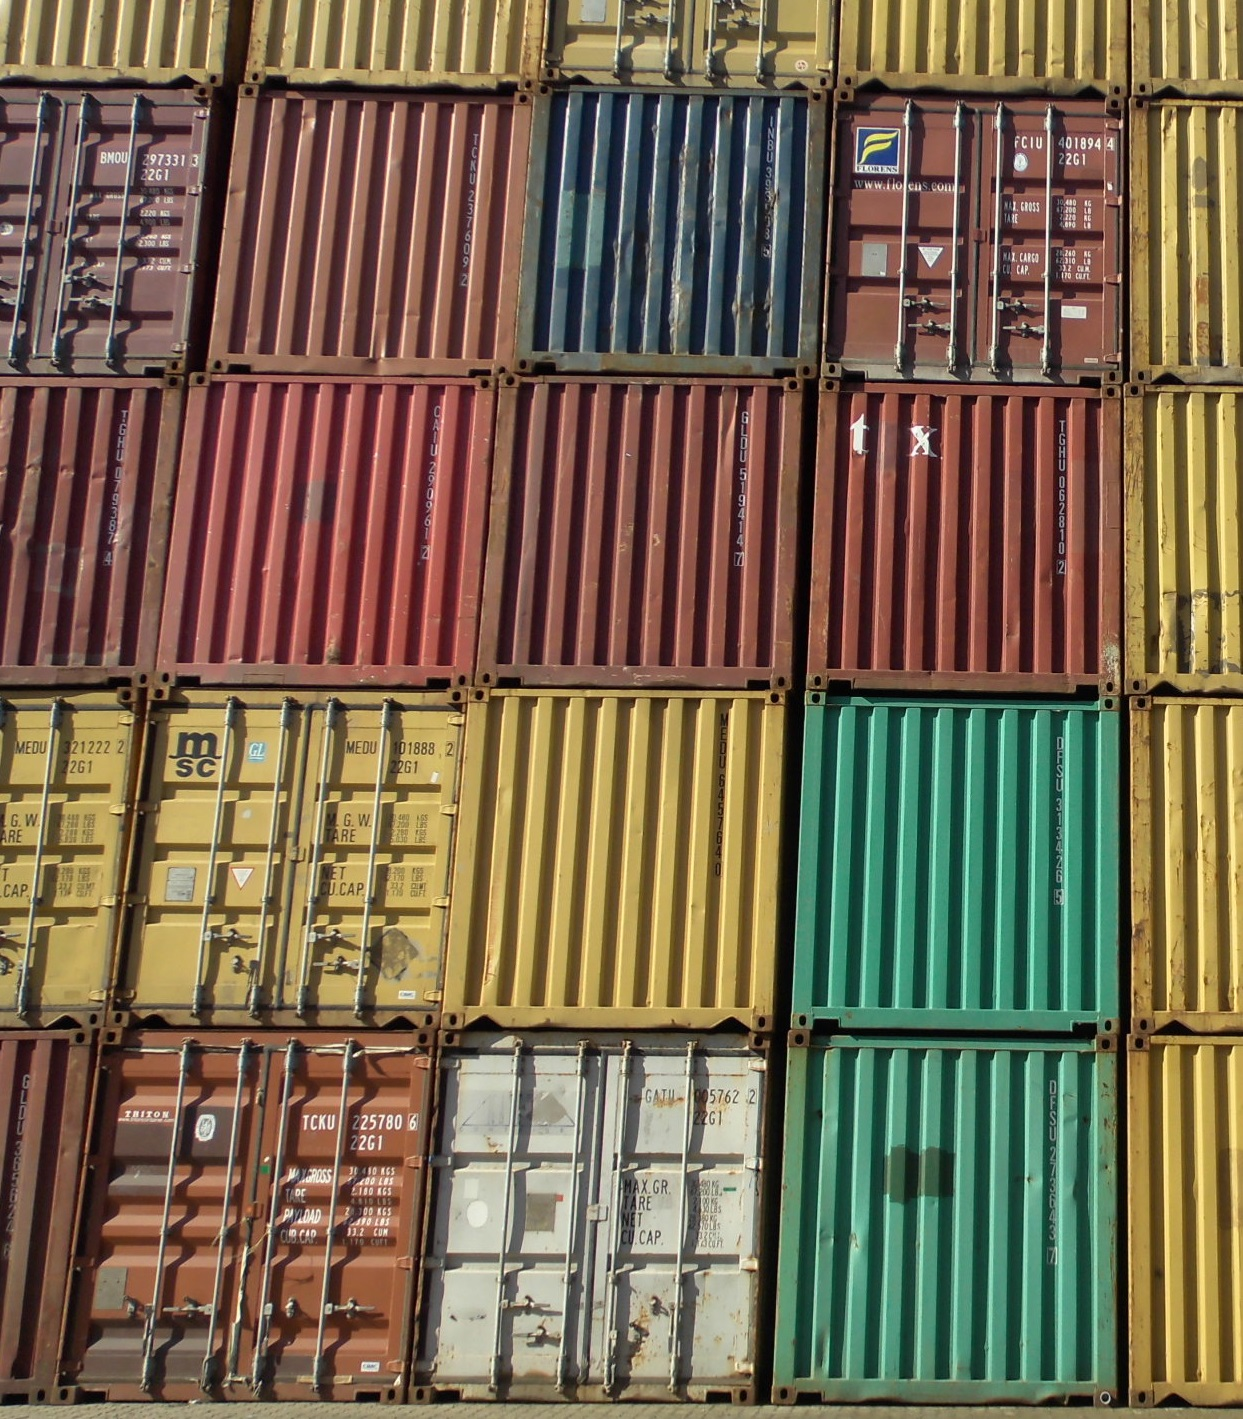container_door: (49, 1032, 440, 1402), (426, 1030, 765, 1403), (112, 694, 453, 1023), (822, 84, 1125, 381), (1, 90, 199, 376)
container_no_door: (768, 1038, 1120, 1405), (792, 700, 1119, 1039), (459, 687, 786, 1026), (811, 383, 1122, 697), (177, 372, 488, 687), (494, 374, 804, 688), (197, 90, 517, 374), (527, 90, 817, 375), (6, 381, 170, 681), (1132, 1038, 1243, 1406), (1121, 389, 1243, 703), (1132, 703, 1243, 1039), (1124, 89, 1243, 392), (238, 1, 539, 86), (841, 1, 1143, 86), (1, 1, 232, 88)
